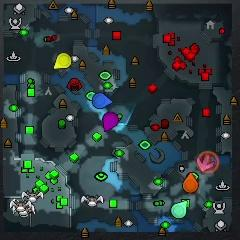p1: (92, 93, 113, 109)
p2: (171, 201, 187, 219)
p3: (102, 112, 119, 130)
p4: (54, 53, 72, 69)
p5: (183, 173, 198, 193)
x1: (196, 153, 214, 172)
